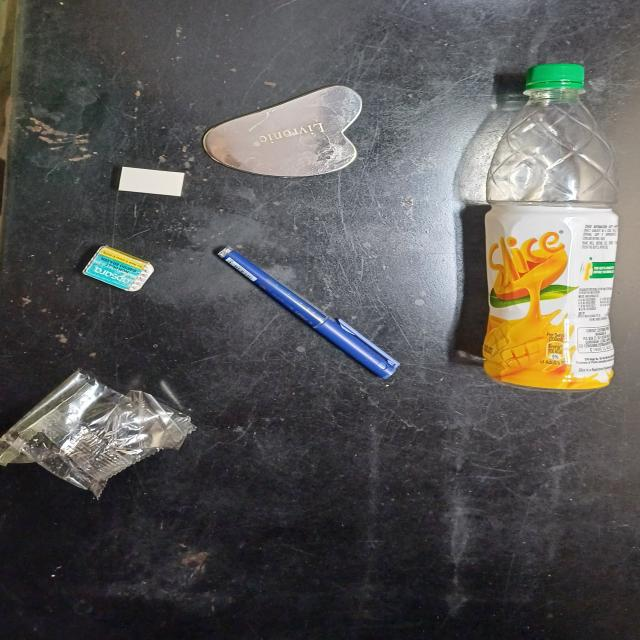Eraser-NonBio: (79, 243, 157, 294), (116, 164, 187, 198)
Pen-NonBio: (212, 240, 399, 382)
Plastic-NonBio: (481, 63, 623, 393), (2, 367, 198, 501)
Steel-NonBio: (198, 79, 365, 181)
